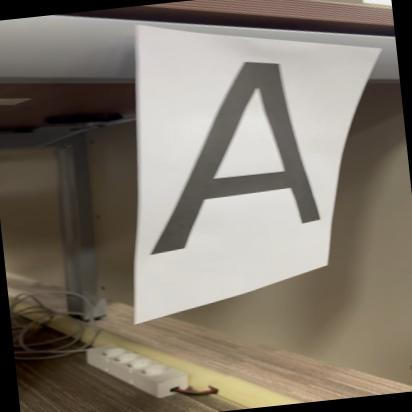seat: (136, 52, 326, 252)
